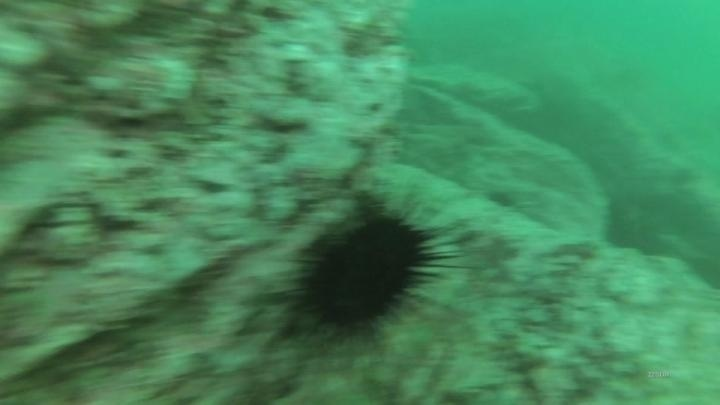echinus: (287, 203, 443, 345)
